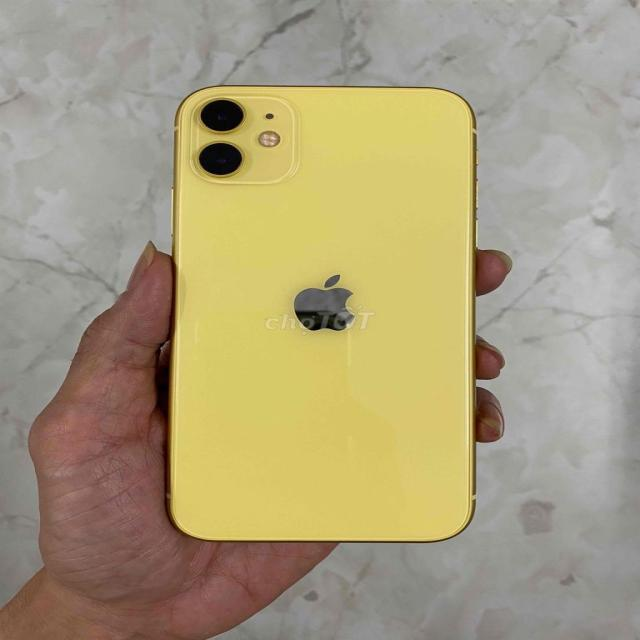gen_14: (168, 71, 485, 554)
